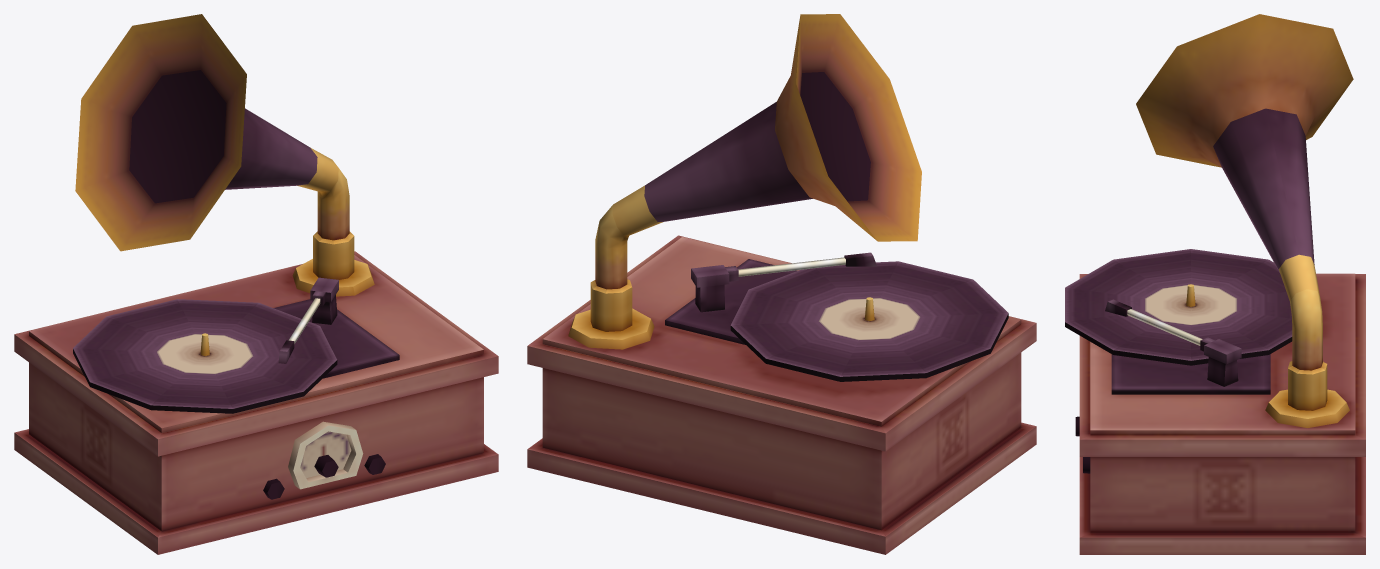
Rendered from SM_Archaeologist_Record_Player.fbx.
The picture shows the model from 3 angles, left to right: view 1: azimuth 30°, elevation 25°; view 2: azimuth 150°, elevation 25°; view 3: azimuth 270°, elevation 25°; orthographic projection. The views are drawn at different scales.
Parts seen in each view (by area): view 1: Record_Player; view 2: Record_Player; view 3: Record_Player.
Part boxes in pixels (left/top/right/bottom): Record_Player: left=14, top=14, right=498, bottom=554; Record_Player: left=527, top=14, right=1036, bottom=554; Record_Player: left=1065, top=14, right=1365, bottom=554.
Size of the model in its own units: 3.83 by 4.59 by 2.84.
